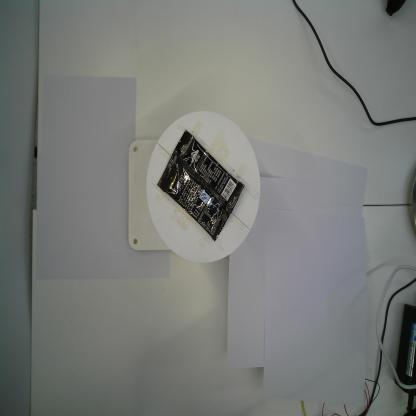Instant Drink: (156, 129, 245, 242)
